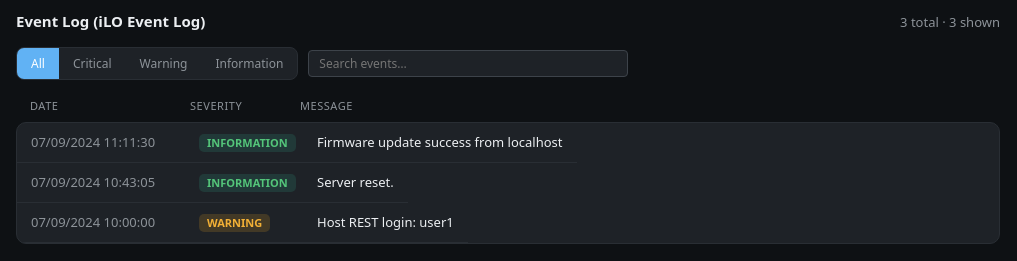
EventsTab (worker-backed) › filters events by severity
Expected: the text "Firmware update success from localhost" is shown, x1=317 y1=133 x2=562 y2=152
Click the button "Warning". click: (163,64)
box: x1=126 y1=48 x2=201 y2=79
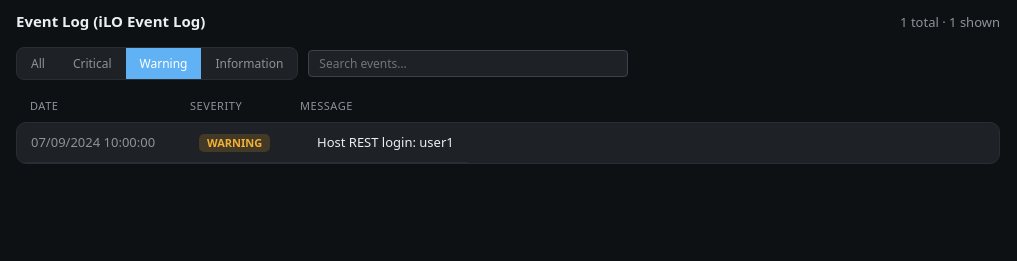
Expected: the text "Host REST login: user1" is shown, x1=317 y1=133 x2=454 y2=152
Now the text "Server reset." is gone
